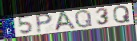3: (94, 8, 110, 26)
5: (16, 14, 34, 36)
A: (53, 11, 78, 33)
P: (35, 12, 54, 34)
Q: (75, 9, 94, 29), (113, 5, 132, 24)
